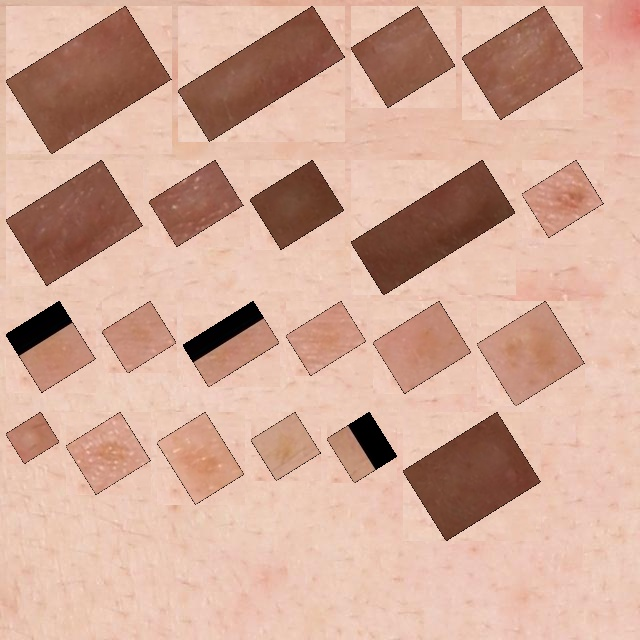hypertrophic_scar: (17, 17, 160, 143), (189, 17, 334, 130), (362, 171, 504, 284), (414, 423, 530, 529), (17, 171, 132, 274), (473, 17, 572, 108), (362, 17, 444, 96), (261, 171, 333, 238), (160, 171, 232, 235), (17, 423, 48, 452)
melasma: (488, 312, 573, 395), (384, 312, 460, 382), (194, 312, 268, 376), (17, 312, 84, 381), (168, 423, 233, 493), (77, 423, 139, 483), (533, 171, 592, 226), (297, 312, 355, 364), (113, 312, 165, 362), (338, 423, 386, 472), (262, 423, 310, 469)
